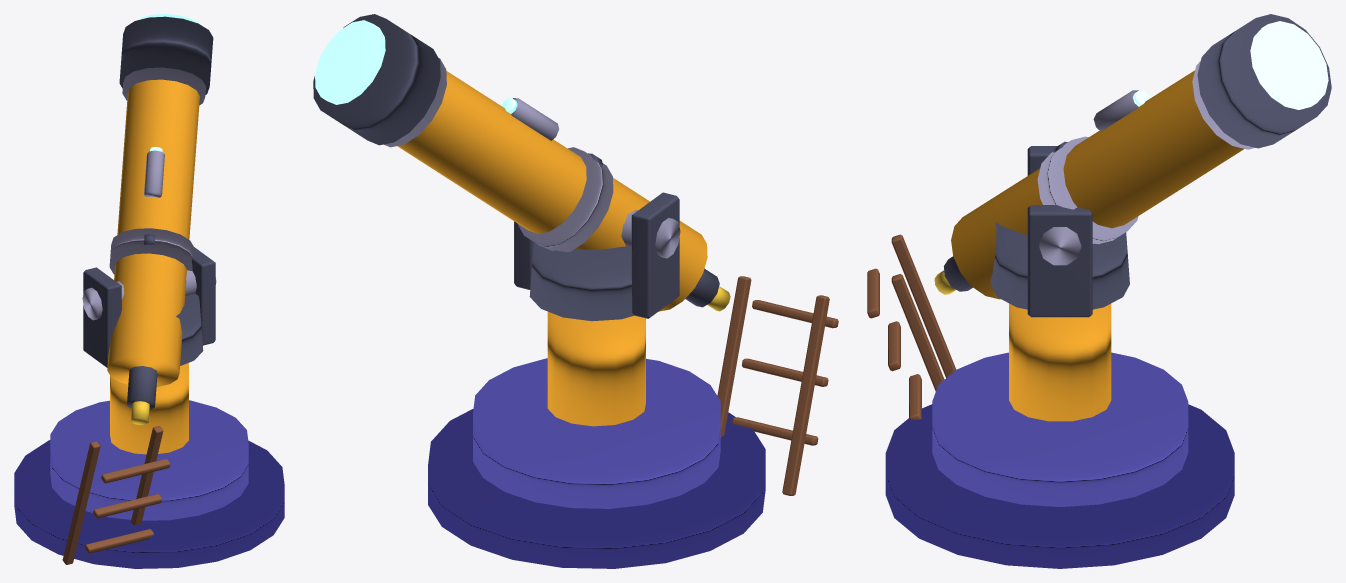
The model's file is telescope.glb.
3 views of the same model, side by side, from view 1: azimuth 30°, elevation 25°; view 2: azimuth 150°, elevation 25°; view 3: azimuth 270°, elevation 25° (orthographic). The views are drawn at different scales.
Parts seen in each view (by area): view 1: Telescope.001; view 2: Telescope.001; view 3: Telescope.001.
Boxes of the visible parts, left/top/right/bottom form: Telescope.001: left=14, top=14, right=284, bottom=568; Telescope.001: left=313, top=14, right=838, bottom=568; Telescope.001: left=867, top=14, right=1331, bottom=568.
Size of the model in its own units: 1.68 by 2.54 by 2.
